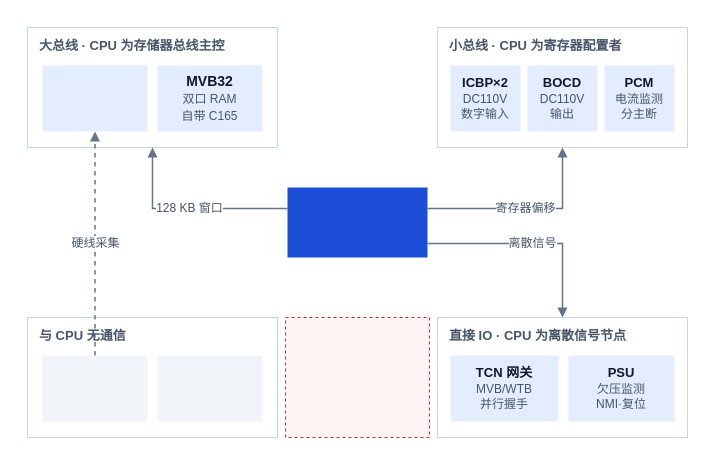
This 714x474 diagram has some shape labels left out. Each missing label, with the centre of its shape:
CPU 卡 AM486 · 看门狗 CAN · RS232: the point at 357,222
IOA 信号调理 V/I 变换: the point at 94,388
IOM 模拟/数字 IO 计数·速度: the point at 94,98
电源卡 / 滤波卡 隔离变换 过压保护: the point at 209,388
绕过 CPU 的安全通路 PSU 欠压→INHIBIT 封锁 /BIN 线直驱 BOCD 输出 PCM 越限→硬件分主断: the point at 357,377
